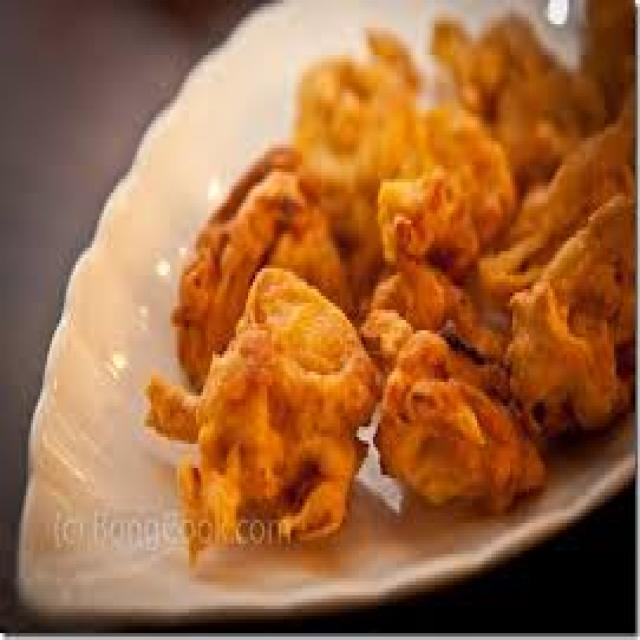BAJI: (167, 278, 374, 549), (179, 274, 369, 538), (174, 150, 341, 378), (519, 115, 638, 427), (308, 101, 500, 252), (368, 340, 530, 506), (349, 175, 483, 356)
